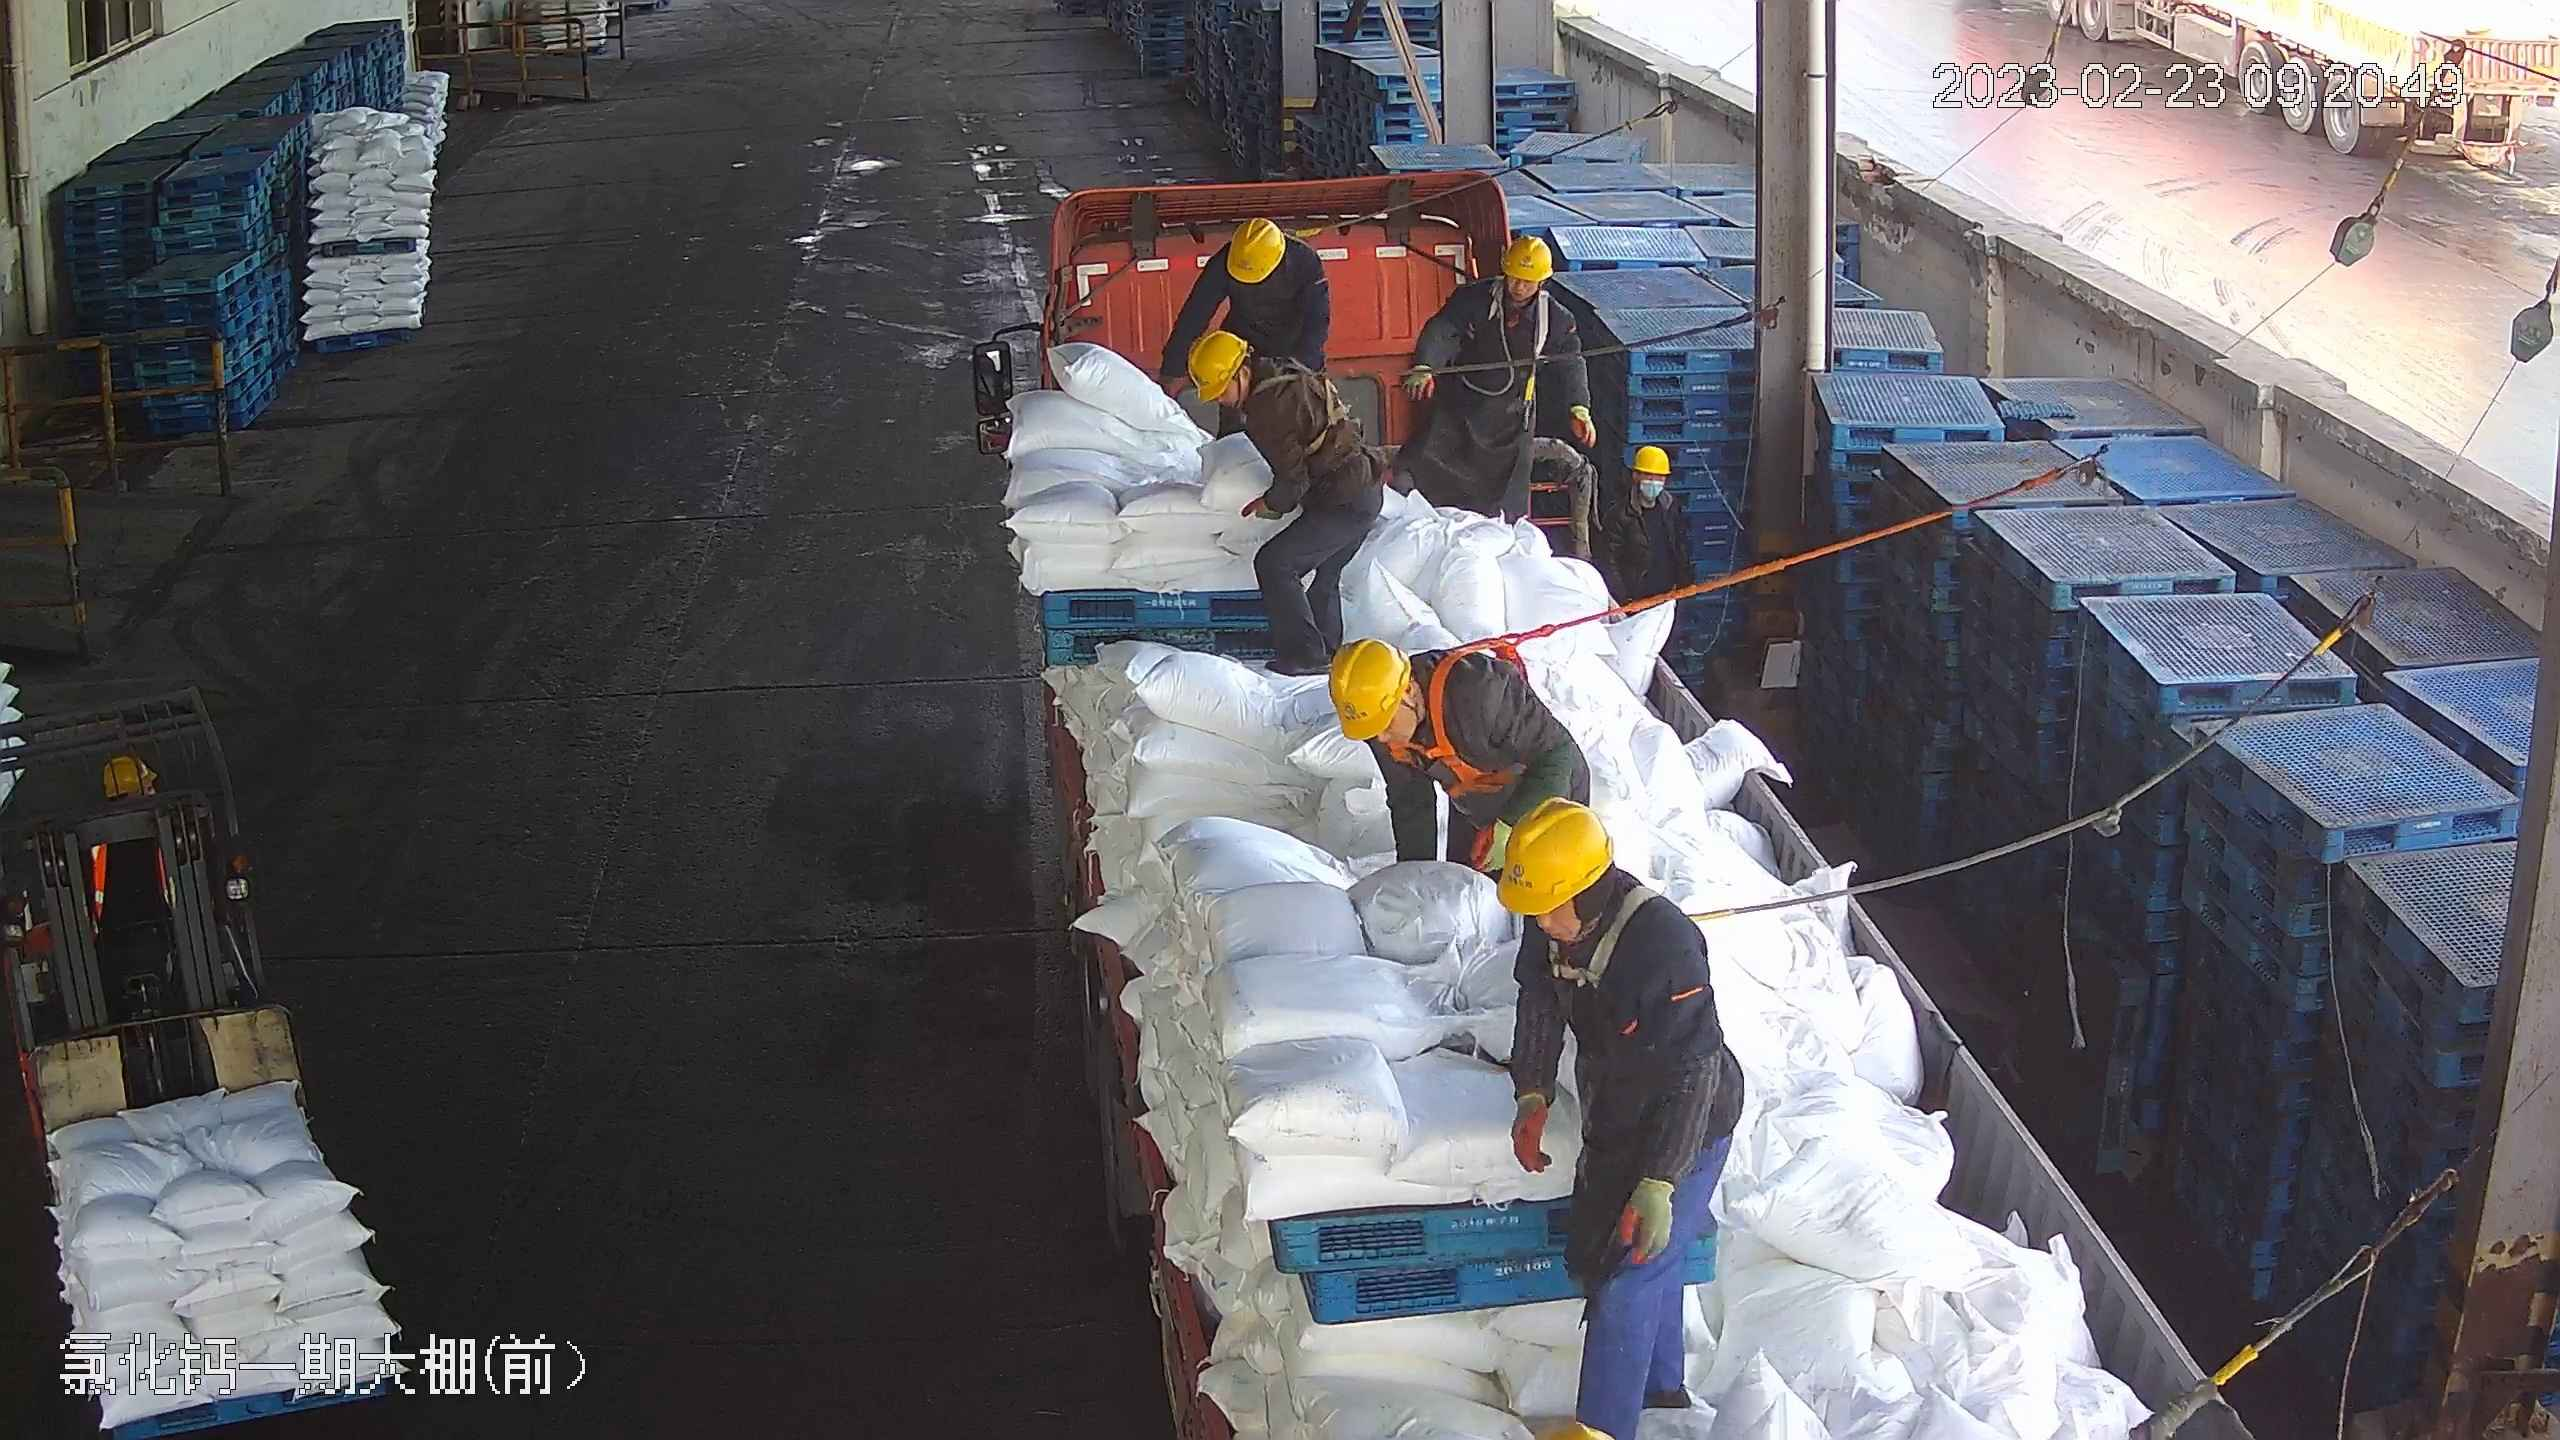belt: (1396, 617, 1547, 801), (1539, 877, 1705, 994), (1258, 356, 1353, 456), (1465, 272, 1556, 361), (1281, 214, 1337, 253)
head: (1488, 797, 1717, 979), (1317, 632, 1500, 761), (1437, 231, 1566, 341), (1187, 329, 1330, 424), (1194, 213, 1319, 315), (1616, 443, 1688, 529)
helmet: (1488, 793, 1617, 914), (1323, 633, 1411, 736), (1183, 326, 1251, 396), (1223, 211, 1288, 281), (1497, 228, 1561, 284), (1628, 440, 1672, 475)
people: (1492, 794, 1743, 1440), (1187, 327, 1378, 665), (1418, 229, 1571, 534), (1596, 441, 1692, 615)
truck: (994, 161, 2247, 1440)
